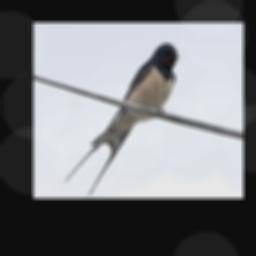Swallow: (65, 43, 179, 194)
